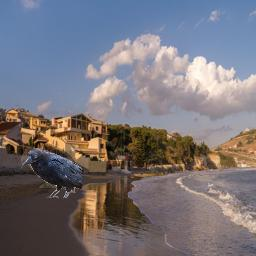Crow: (21, 147, 82, 198)
